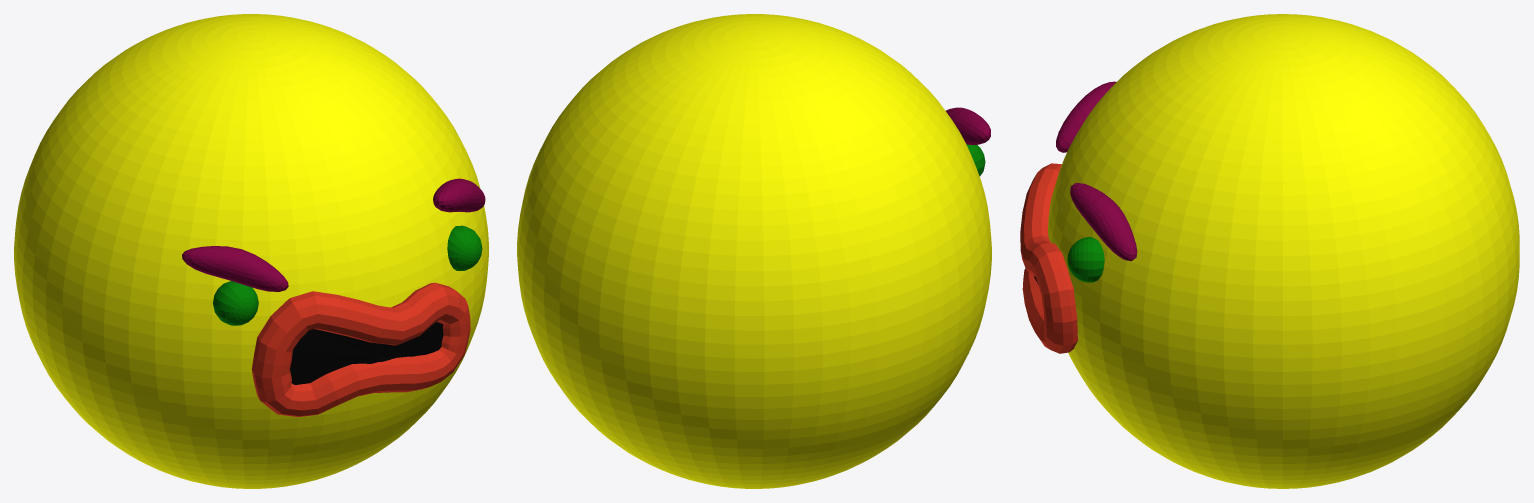
The model's file is Planet_Face.fbx.
The picture shows the model from 3 angles, left to right: view 1: azimuth 30°, elevation 25°; view 2: azimuth 150°, elevation 25°; view 3: azimuth 270°, elevation 25°; orthographic projection.
Visible parts, largest first — view 1: geo1; view 2: geo1; view 3: geo1.
Boxes of the visible parts, left/top/right/bottom form: geo1: left=14, top=14, right=488, bottom=488; geo1: left=517, top=14, right=991, bottom=488; geo1: left=1020, top=14, right=1519, bottom=488.
Size of the model in its own units: 39.98 by 40 by 42.06.
